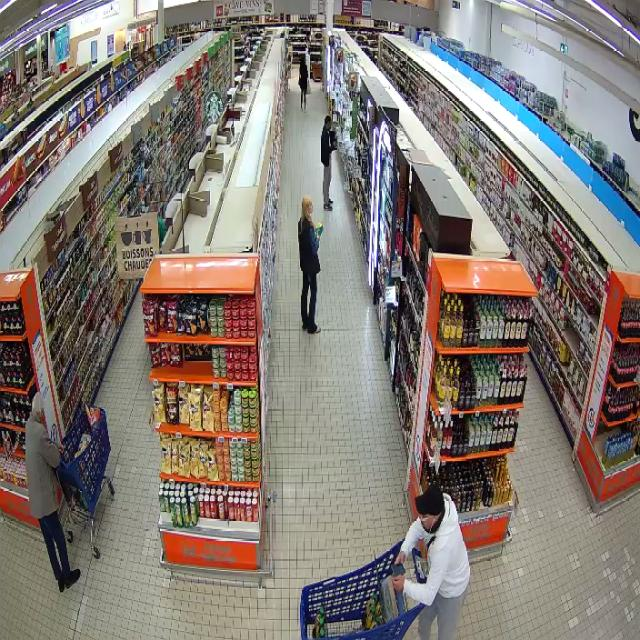article: (314, 222, 324, 240), (332, 129, 337, 144)
hands: (392, 575, 405, 593), (395, 552, 405, 564), (58, 443, 64, 454), (316, 231, 322, 240), (332, 141, 337, 148)
person: (393, 484, 469, 639), (25, 392, 80, 591), (297, 196, 320, 333), (321, 116, 335, 209)
